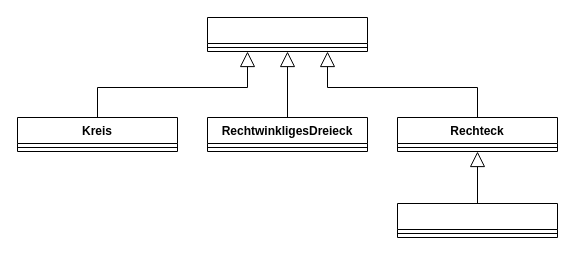
Image size: 575x255. Some labels were removed from this diagram. Each missing label, with the centre of its shape:
"Form" goes at pixel 287 34.
"Quadrat" goes at pixel 477 220.
